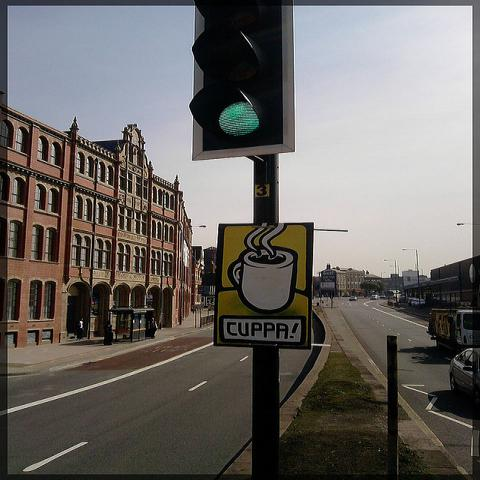car: (448, 348, 479, 407), (369, 294, 380, 300), (415, 300, 425, 306), (348, 296, 359, 301), (378, 294, 386, 298), (315, 294, 320, 298)
truck: (425, 306, 476, 354)
